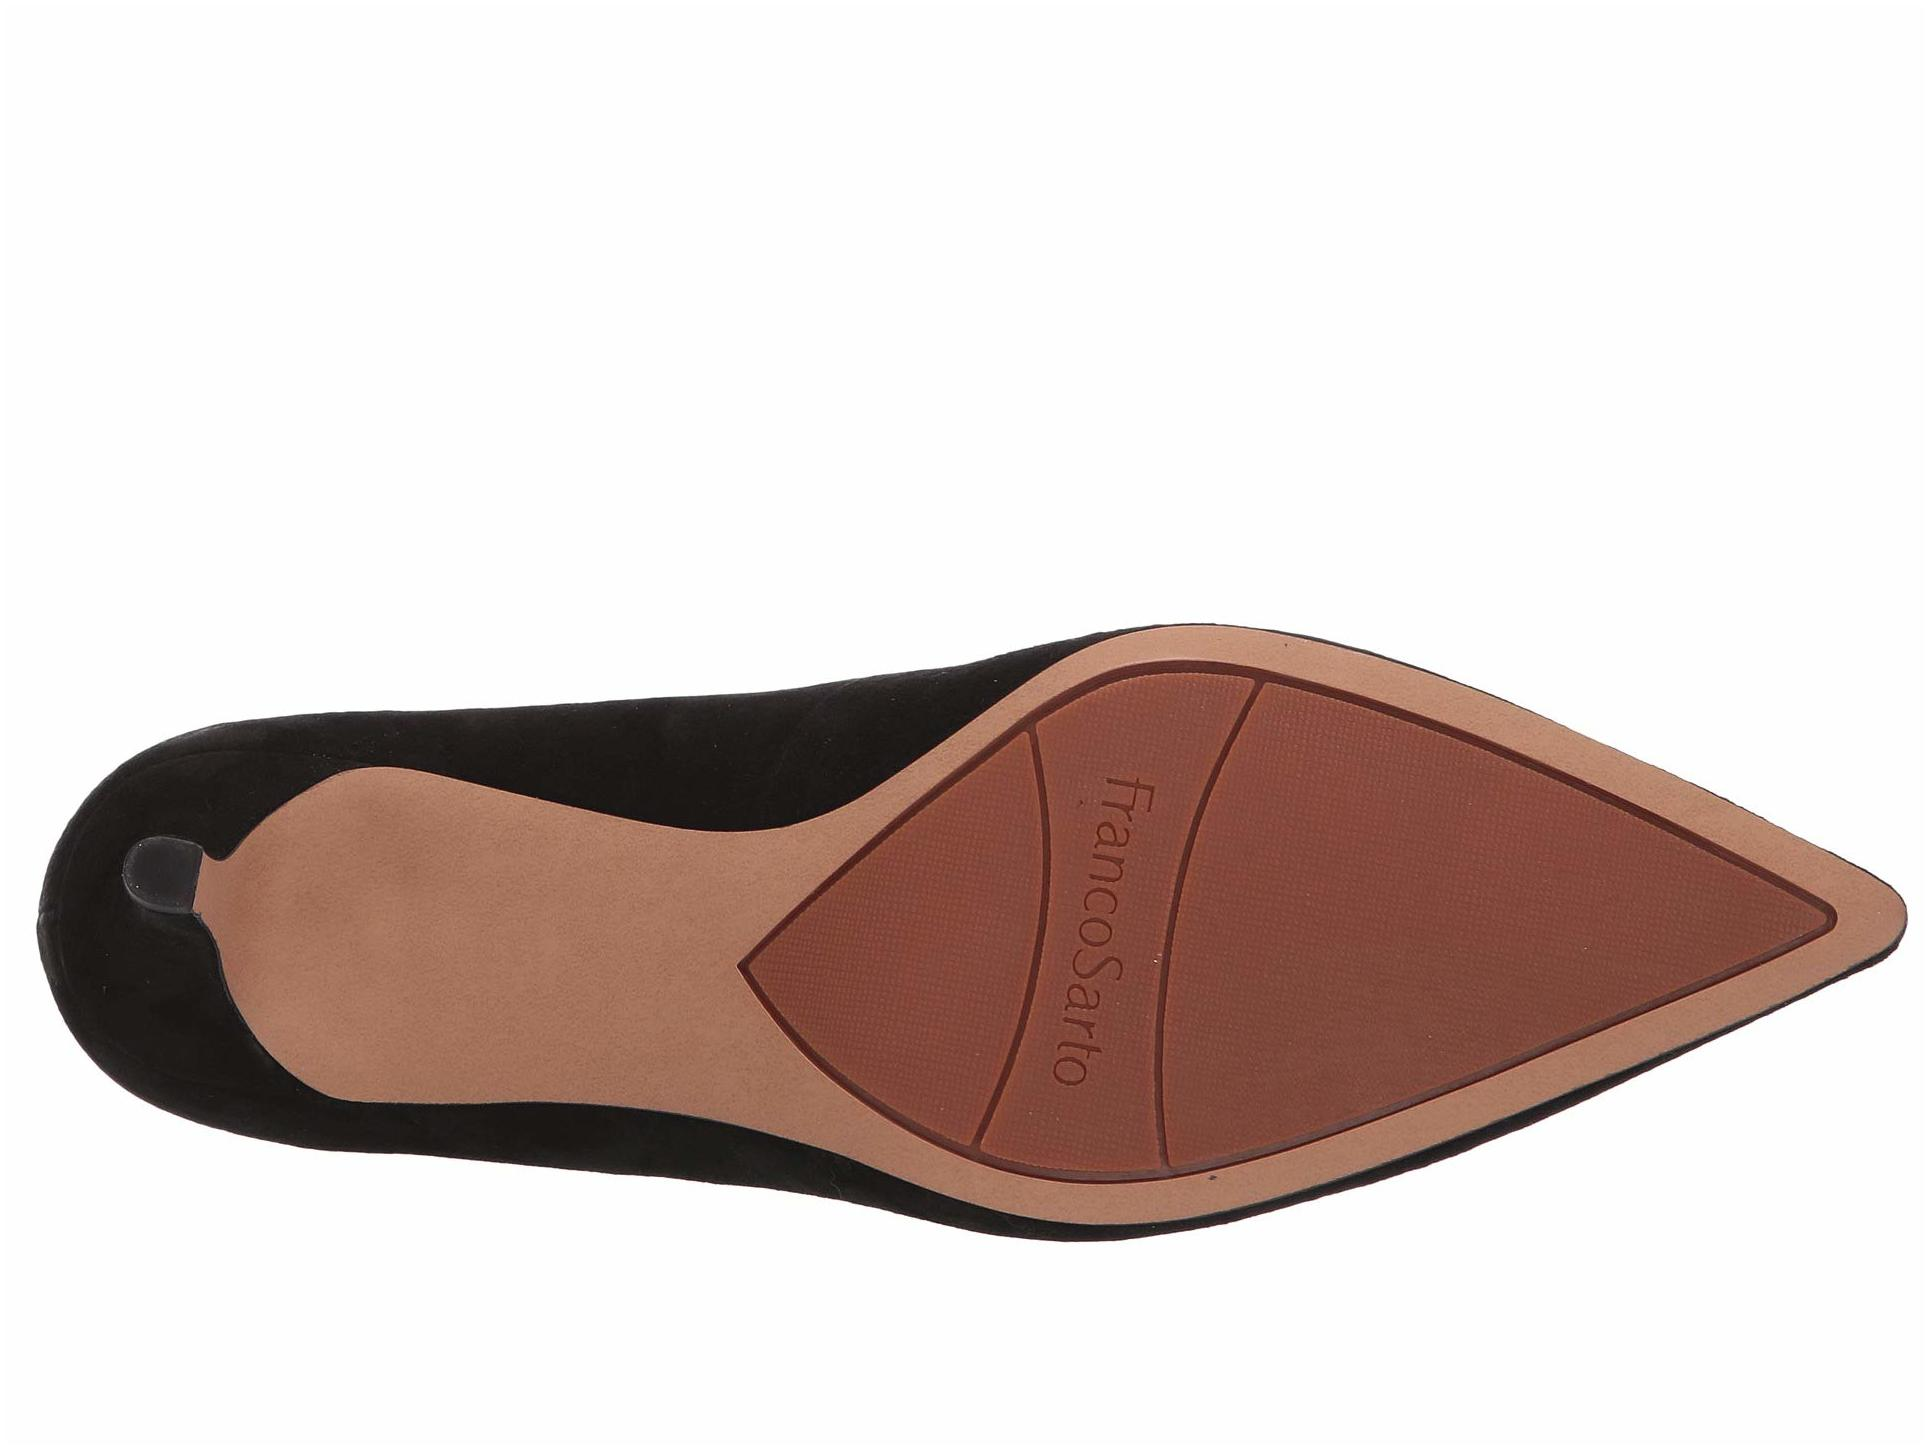circle: (957, 759, 1313, 1119)
line: (957, 759, 1313, 1119)
text: (957, 759, 1313, 1119)
